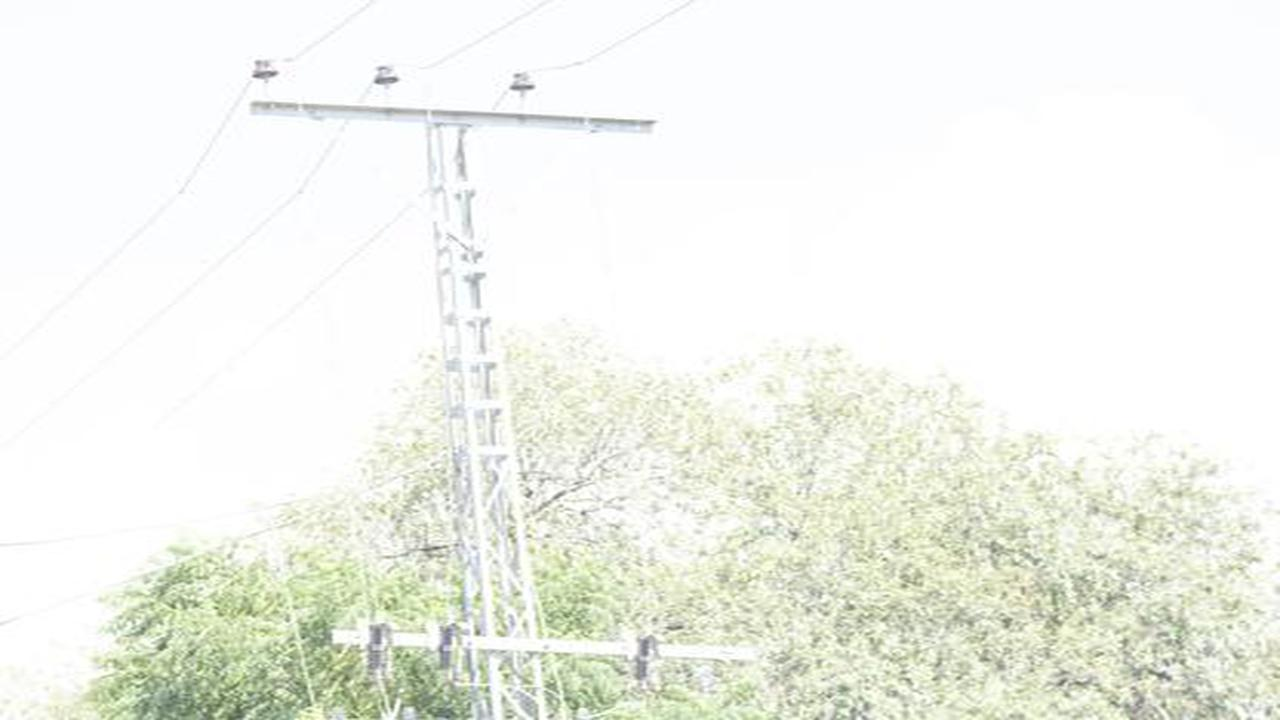insulator_pin: (369, 60, 404, 92), (507, 66, 540, 98), (250, 52, 279, 86)
